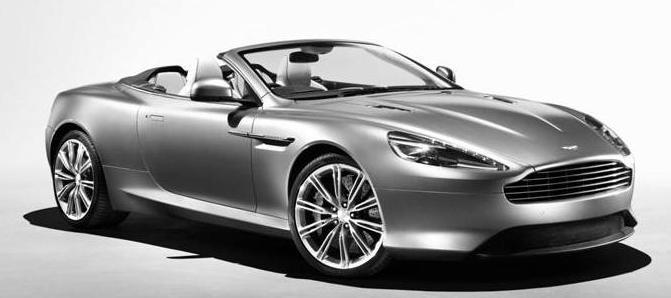car: (45, 40, 644, 283)
